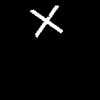single_crochet: (30, 6, 62, 36)
